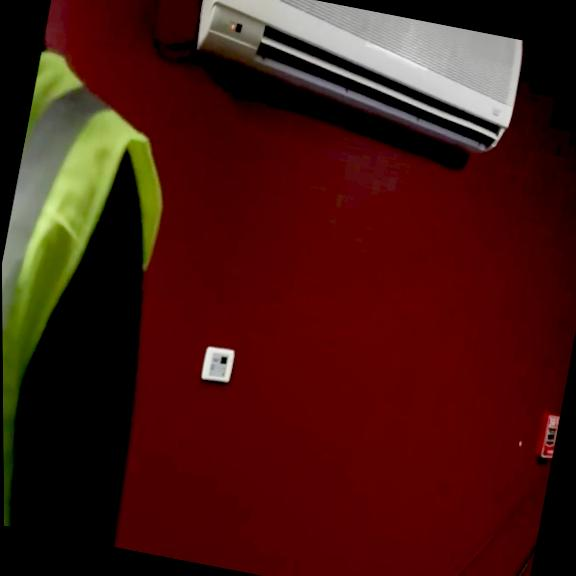safety_vest: (0, 51, 194, 544)
